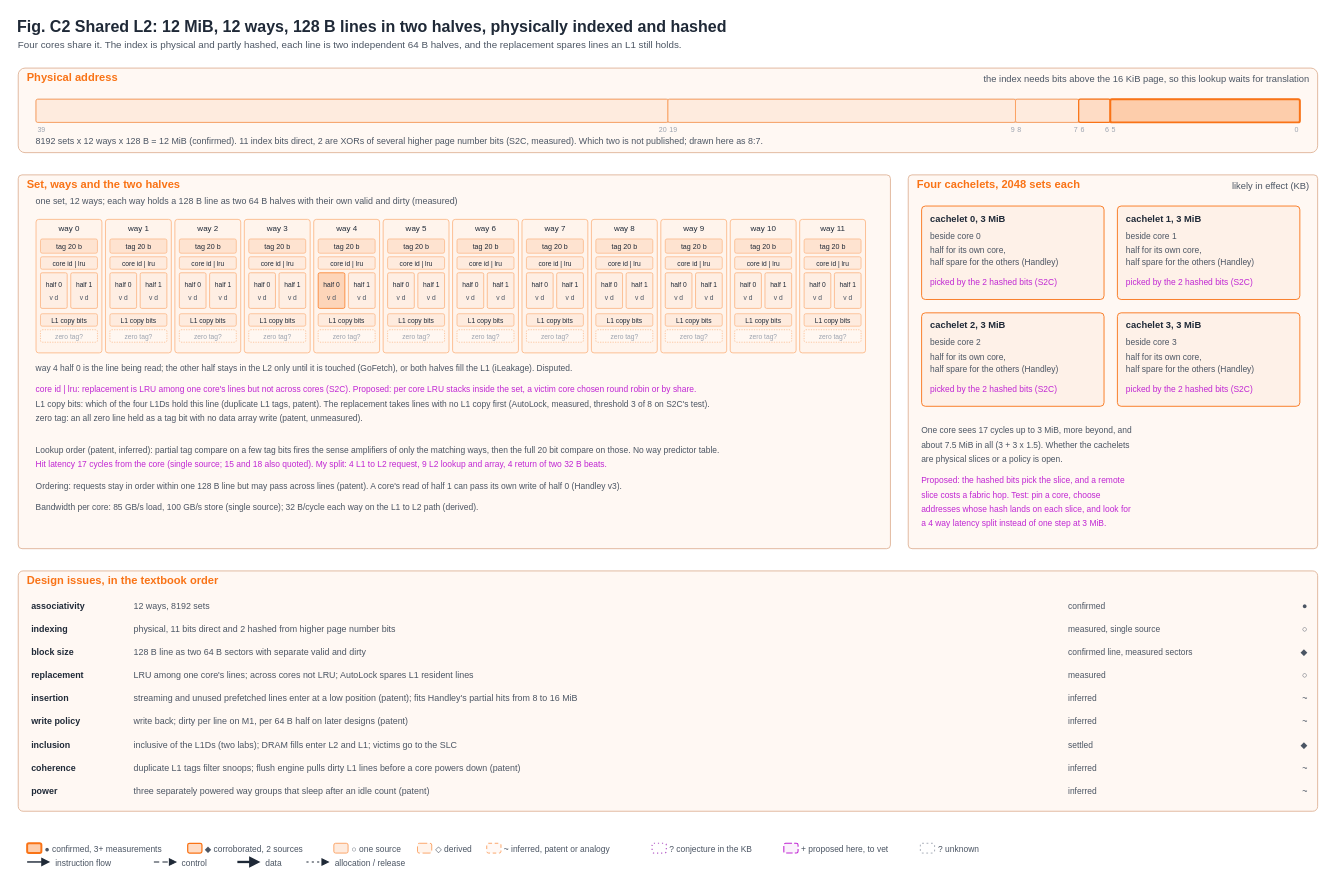
Some shapes in this 1333 by 886 pixel diagram are drawn without their labels. Each missing label, with the centre of its shape:
"byte 5:0" goes at point 1204,110.
"h 8:7" goes at point 1047,110.
"half" goes at point 1094,110.
"index 19:9 direct" goes at point 841,110.
"tag 39:20" goes at point 351,110.
